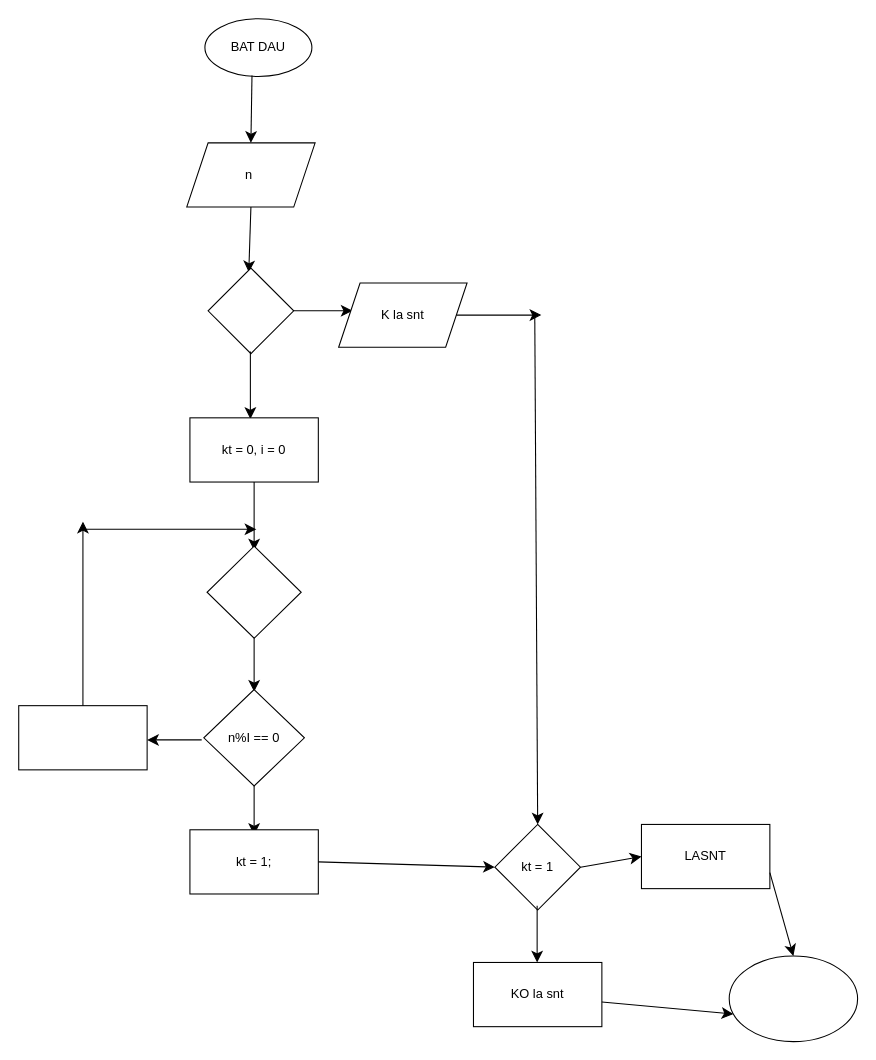
Image size: 876x1060. Some labels were removed from this diagram. The shapes that lost their labels are listed below. From the top down, each one's centre as x and y in pixels, then its label:
[250,310]: n < 2
[253,591]: i <= can(n)
[82,737]: I++
[793,998]: KET THUC
